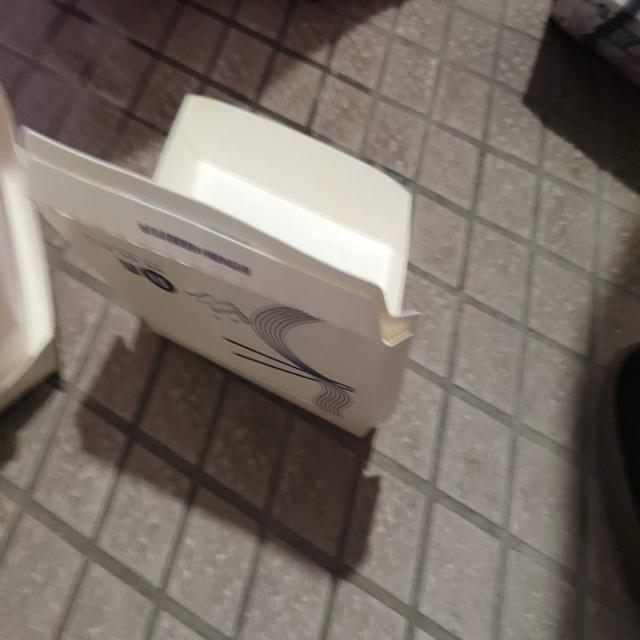Paper bowl: (16, 88, 443, 457), (0, 62, 88, 412)
